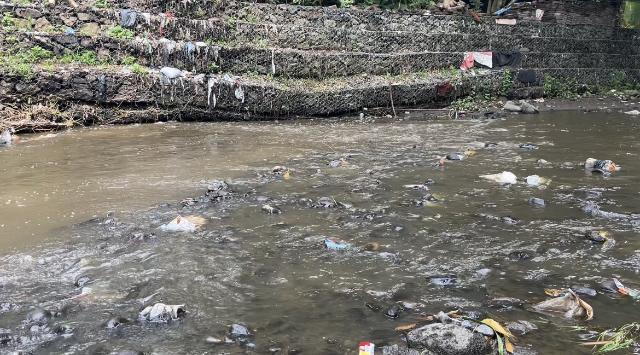Sampah Anorganik: (537, 293, 594, 321), (585, 156, 623, 176), (613, 277, 640, 299), (325, 235, 350, 253), (482, 172, 517, 183), (523, 174, 548, 189), (356, 339, 376, 355), (401, 185, 428, 193), (465, 151, 475, 155)
Sampah Organik: (428, 309, 515, 355), (566, 325, 640, 355), (156, 215, 205, 233), (360, 240, 383, 255), (423, 194, 441, 210), (597, 229, 611, 243), (177, 198, 195, 204), (281, 172, 294, 179), (340, 158, 350, 165), (440, 158, 443, 163)
